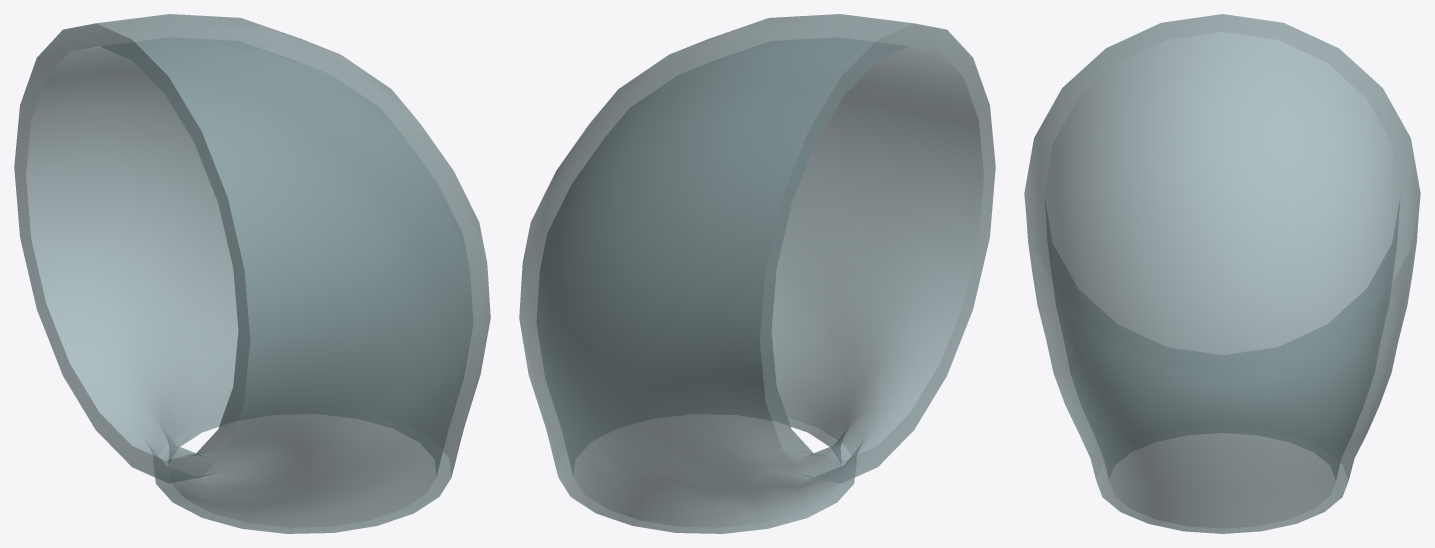
The model's file is Tube_Elbow2.fbx.
3 renders of one model, left to right at view 1: azimuth 30°, elevation 25°; view 2: azimuth 150°, elevation 25°; view 3: azimuth 270°, elevation 25°, orthographic. The views are drawn at different scales.
Parts seen in each view (by area): view 1: Tube_Elbow2; view 2: Tube_Elbow2; view 3: Tube_Elbow2.
Part boxes in pixels (box(x1,y1,x2,y2)): Tube_Elbow2: box(14, 14, 490, 533); Tube_Elbow2: box(519, 14, 995, 533); Tube_Elbow2: box(1024, 14, 1420, 533).
Bounding box in the file's own units: 3.24 × 4.42 × 4.
